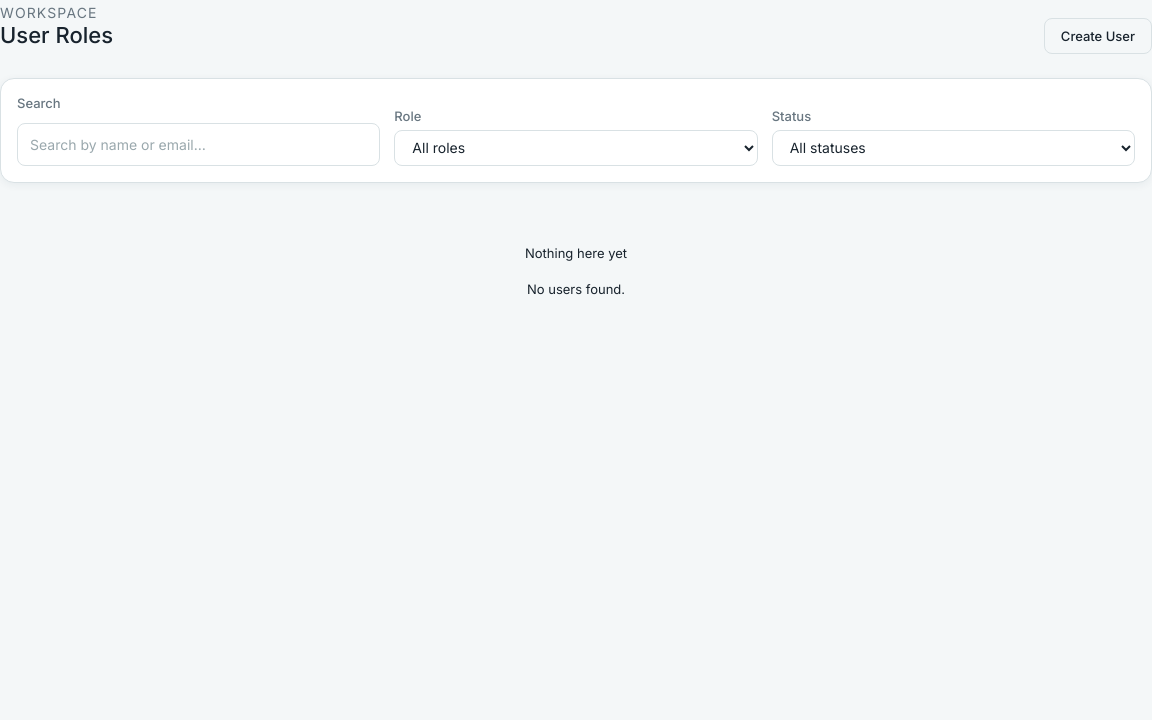
Test case: UsersAdminView create/edit dialogs › shows a required customer picker when the create role is set to customer
Click the button "Create User". click: [1098, 36]
box: [1044,18,1151,54]
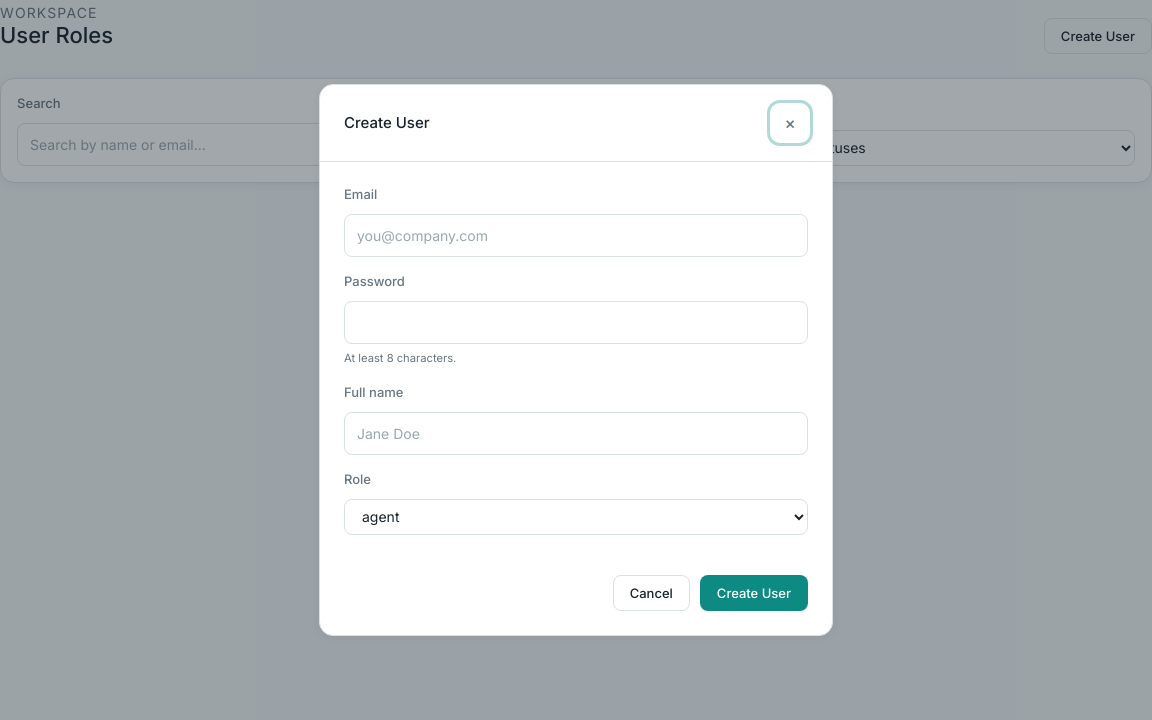
Select "customer" in the dropdown with id "create-user-role". click: [576, 517]
box: [344,499,808,535]
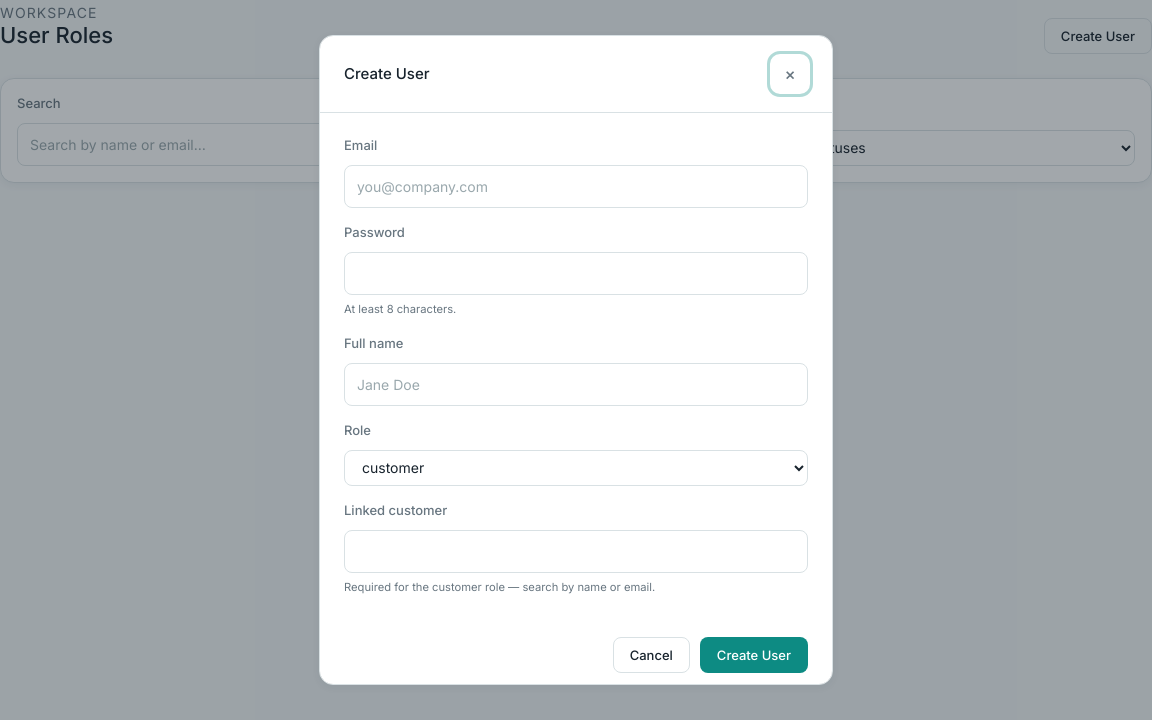
Result: the field with id "create-user-customer" is shown at [344,530,808,573]
